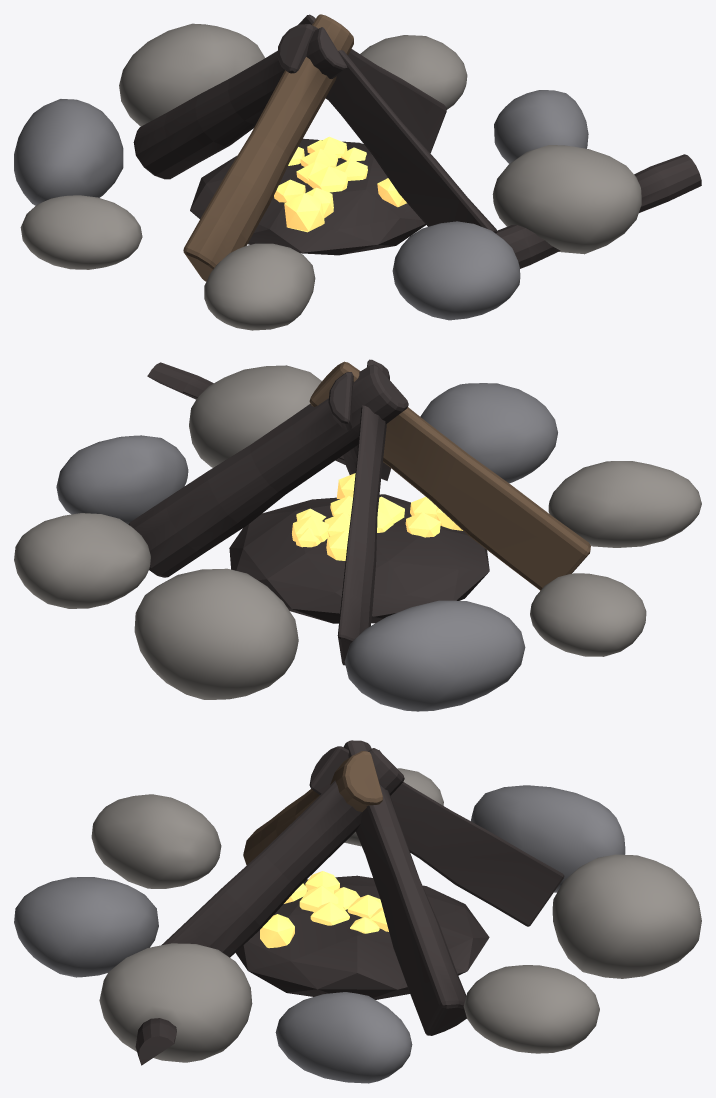
File: campfire.glb
3 renders of one model, top to bottom at view 1: azimuth 30°, elevation 25°; view 2: azimuth 150°, elevation 25°; view 3: azimuth 270°, elevation 25°, orthographic. The views are drawn at different scales.
Parts seen in each view (by area): view 1: campfire; view 2: campfire; view 3: campfire.
Boxes of the visible parts, x1,y1,x2,y2 form: campfire: [14, 14, 701, 330]; campfire: [14, 359, 701, 711]; campfire: [14, 740, 701, 1083].
Size of the model in its own units: 1.31 by 0.4742 by 1.31.
